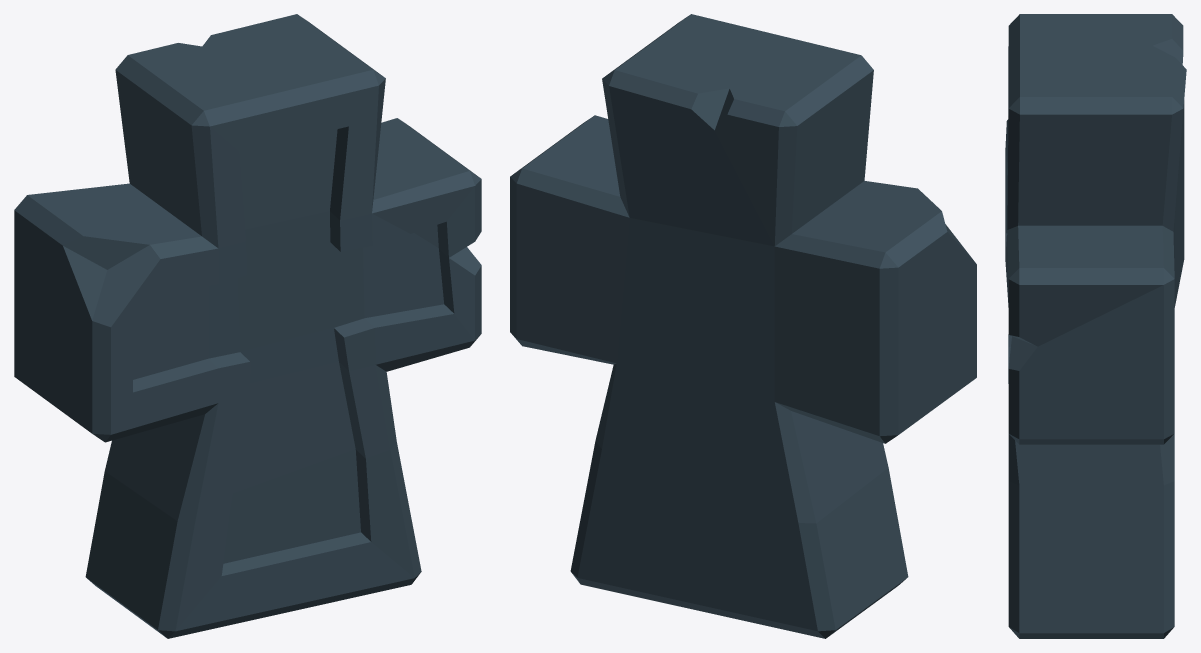
The model's file is Grave_2.fbx.
The picture shows the model from 3 angles, left to right: view 1: azimuth 30°, elevation 25°; view 2: azimuth 150°, elevation 25°; view 3: azimuth 270°, elevation 25°; orthographic projection.
Parts seen in each view (by area): view 1: Grave 2; view 2: Grave 2; view 3: Grave 2.
Boxes of the visible parts, bbox=[...] form: Grave 2: bbox=[14, 14, 481, 638]; Grave 2: bbox=[510, 14, 976, 638]; Grave 2: bbox=[1005, 14, 1186, 638].
Bounding box in the file's own units: 161 × 207 × 64.81.
